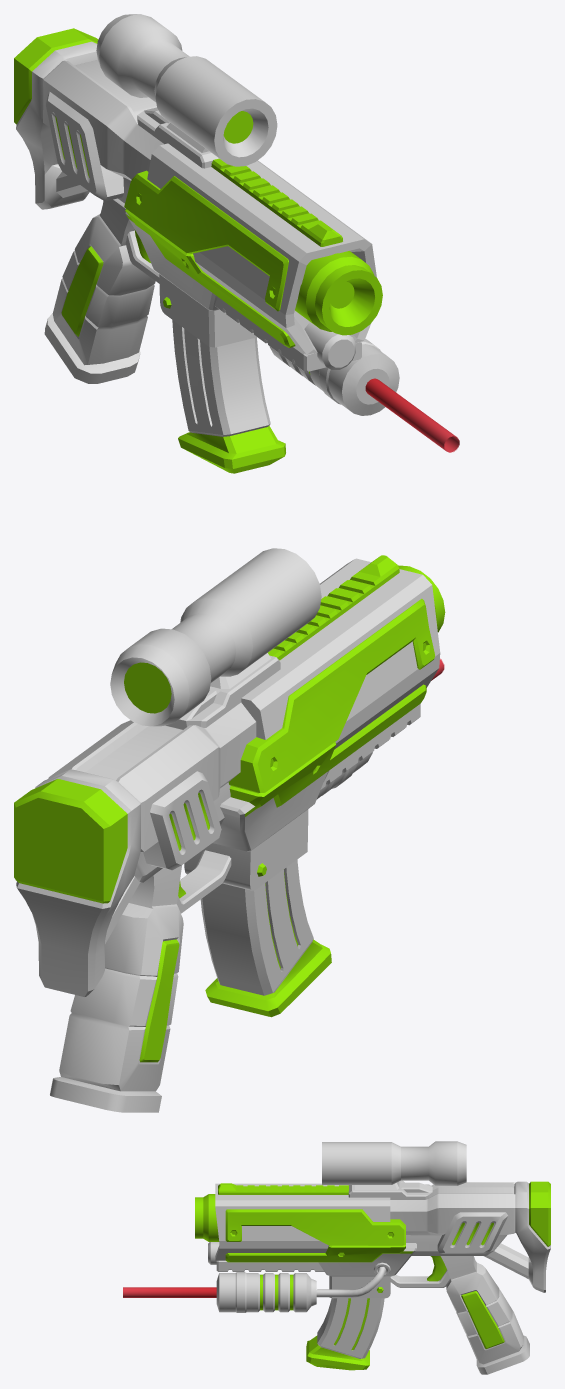
Rendered from Rifle C Mat.fbx.
3 renders of one model, top to bottom at view 1: azimuth 30°, elevation 25°; view 2: azimuth 150°, elevation 25°; view 3: azimuth 270°, elevation 25°, orthographic. The views are drawn at different scales.
Parts seen in each view (by area): view 1: Rifle C Mat, Rifle C Mat.002, Rifle C Mat.003, Rifle C Mat.001; view 2: Rifle C Mat, Rifle C Mat.002, Rifle C Mat.003; view 3: Rifle C Mat, Rifle C Mat.002, Rifle C Mat.001, Rifle C Mat.003.
Part boxes in pixels (<box>): Rifle C Mat: <box>14,28,382,383</box>; Rifle C Mat.002: <box>96,14,277,168</box>; Rifle C Mat.003: <box>172,320,285,473</box>; Rifle C Mat.001: <box>269,339,459,452</box>; Rifle C Mat: <box>14,555,445,1112</box>; Rifle C Mat.002: <box>110,548,321,729</box>; Rifle C Mat.003: <box>200,859,331,1017</box>; Rifle C Mat: <box>195,1181,550,1374</box>; Rifle C Mat.002: <box>322,1141,466,1199</box>; Rifle C Mat.001: <box>123,1262,390,1312</box>; Rifle C Mat.003: <box>306,1298,384,1370</box>.
Size of the model in its own units: 0.2003 by 0.5982 by 1.29.
